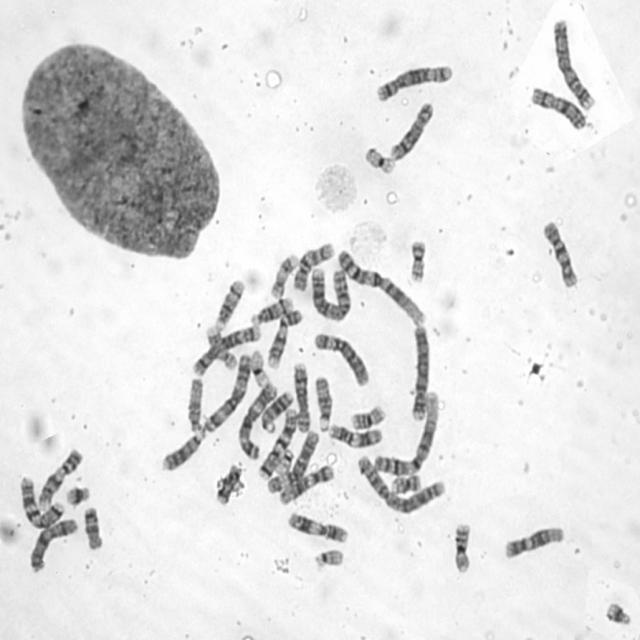A1: (334, 247, 428, 328), (371, 388, 442, 477)
A2: (354, 451, 446, 516), (308, 264, 353, 323)
A3: (201, 350, 253, 434), (235, 378, 278, 459)
B4: (550, 15, 596, 112), (408, 322, 431, 422)
B5: (189, 321, 263, 377), (374, 60, 455, 103)
C10: (541, 218, 579, 290), (290, 239, 336, 293)
C11: (285, 510, 350, 544), (325, 420, 384, 450)
C12: (276, 461, 335, 506), (500, 522, 565, 560)
C6: (265, 428, 320, 494), (311, 329, 371, 388)
C7: (255, 406, 299, 480), (17, 472, 65, 529)
C8: (386, 99, 436, 163), (291, 360, 312, 434)
C9: (36, 446, 84, 508), (264, 306, 304, 370)
D13: (159, 429, 206, 473), (258, 386, 295, 433)
D14: (212, 274, 245, 332), (248, 293, 294, 327)
D15: (184, 375, 206, 434), (313, 373, 333, 433)
E16: (451, 519, 473, 575), (348, 402, 388, 431)
E17: (204, 322, 237, 372), (268, 251, 298, 300)
E18: (215, 463, 243, 506), (81, 503, 104, 551)
F19: (362, 143, 398, 176), (249, 347, 271, 388)
F20: (407, 237, 427, 285), (388, 471, 423, 495)
G21: (602, 598, 634, 627), (64, 483, 91, 508)
G22: (312, 546, 344, 571), (274, 446, 296, 474)
X: (26, 515, 78, 574), (528, 83, 588, 132)
